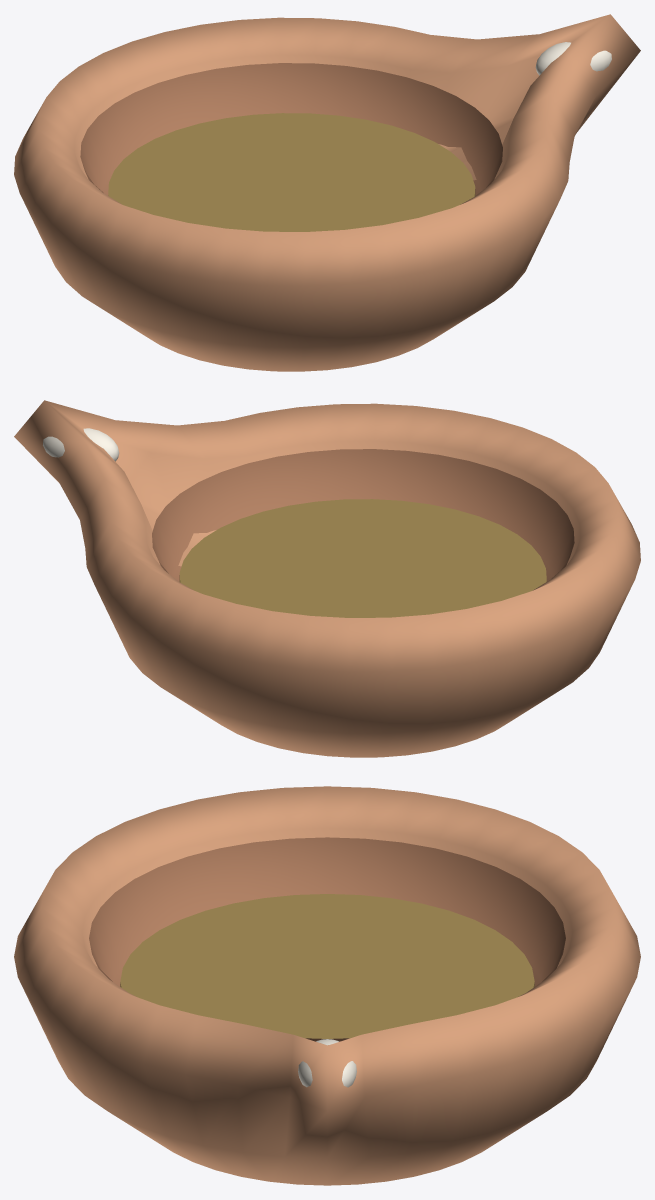
Rendered from lamp.glb.
The picture shows the model from 3 angles, top to bottom: view 1: azimuth 30°, elevation 25°; view 2: azimuth 150°, elevation 25°; view 3: azimuth 270°, elevation 25°; orthographic projection. The views are drawn at different scales.
Visible parts, largest first — view 1: lamp-bowl, lamp-oil, lamp-inside, lamp-wick; view 2: lamp-bowl, lamp-oil, lamp-inside, lamp-wick; view 3: lamp-bowl, lamp-oil, lamp-inside, lamp-wick.
Boxes of the visible parts, x1,y1,x2,y2 form: lamp-bowl: [14, 14, 640, 371]; lamp-oil: [108, 113, 475, 231]; lamp-inside: [80, 63, 502, 195]; lamp-wick: [535, 42, 611, 75]; lamp-bowl: [14, 400, 640, 757]; lamp-oil: [179, 499, 546, 617]; lamp-inside: [152, 449, 574, 581]; lamp-wick: [43, 428, 119, 461]; lamp-bowl: [14, 786, 640, 1185]; lamp-oil: [120, 894, 534, 1038]; lamp-inside: [89, 837, 565, 1041]; lamp-wick: [298, 1039, 356, 1087].
Bounding box in the file's own units: 0.0563 × 0.019 × 0.046.
